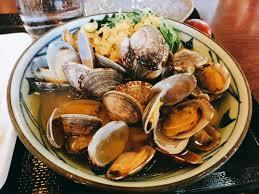asari: (5, 8, 253, 194)
